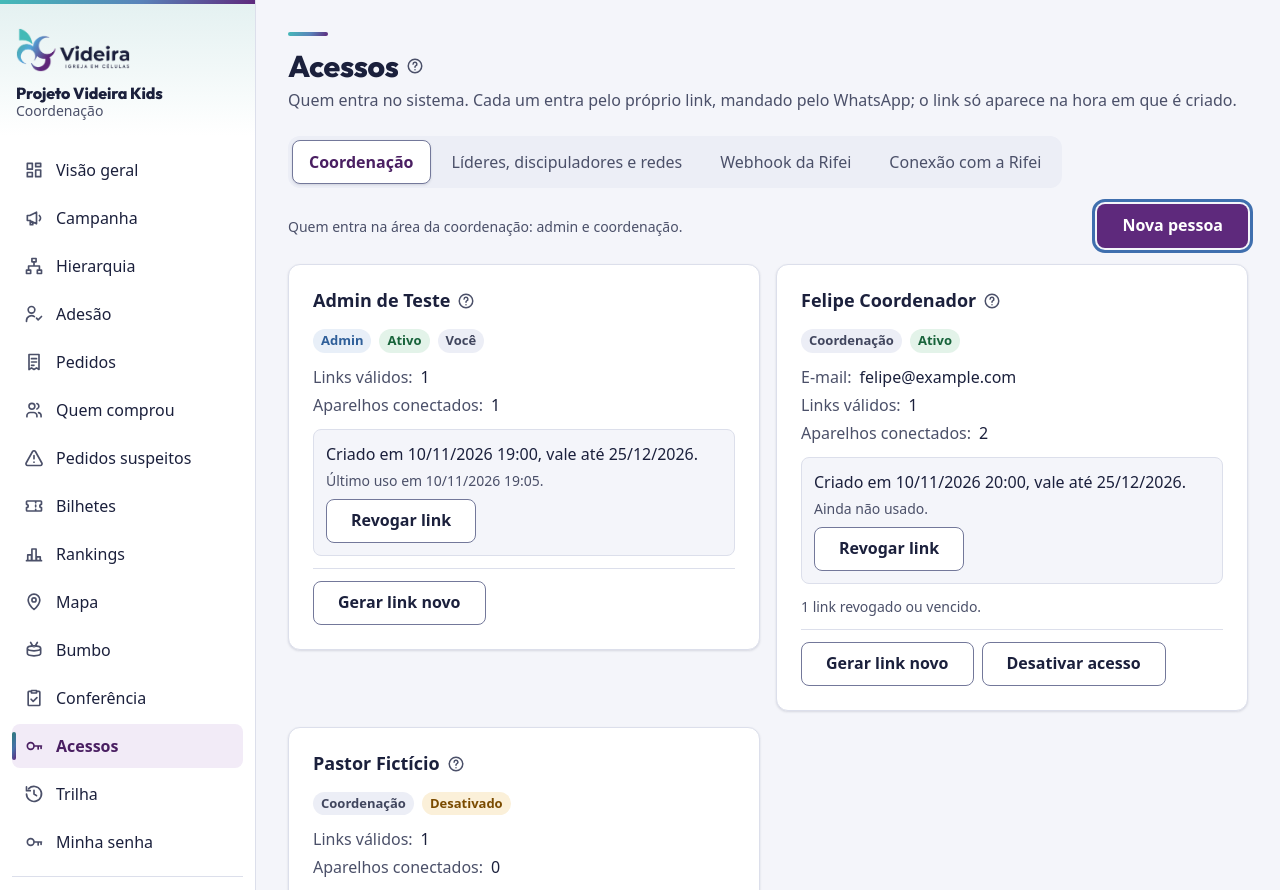
Test: CA5: nova pessoa e o link mostrado uma vez › e-mail recusado pela API (400 com detalhes): marca o campo e explica
Expected: the heading "Admin de Teste" is shown, [313,290,450,312]
Click the button "Nova pessoa" at coordinates (1173, 226), box [1097,204,1248,248]
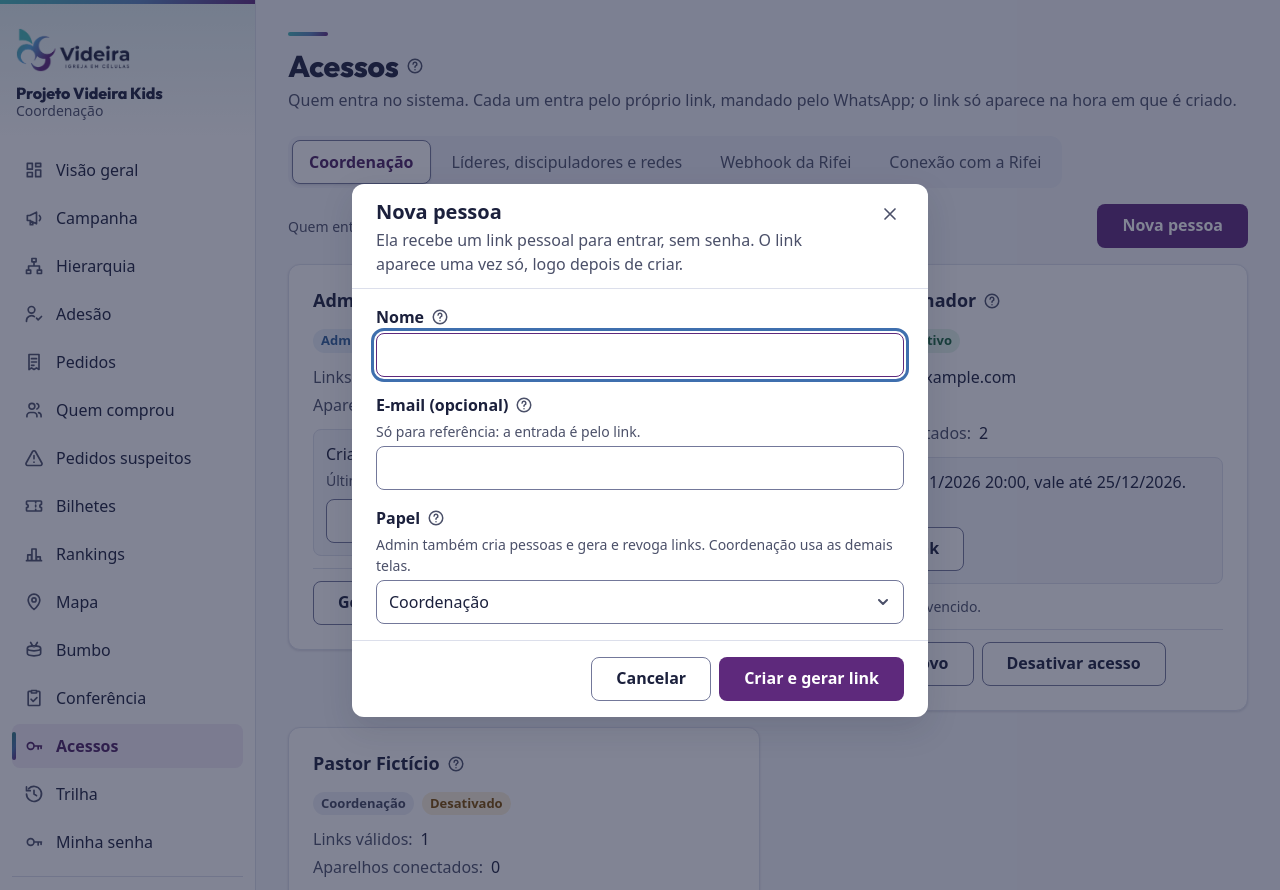
Type "Pessoa Nova" into the field labelled "Nome" at coordinates (640, 354), box [376,332,904,376]
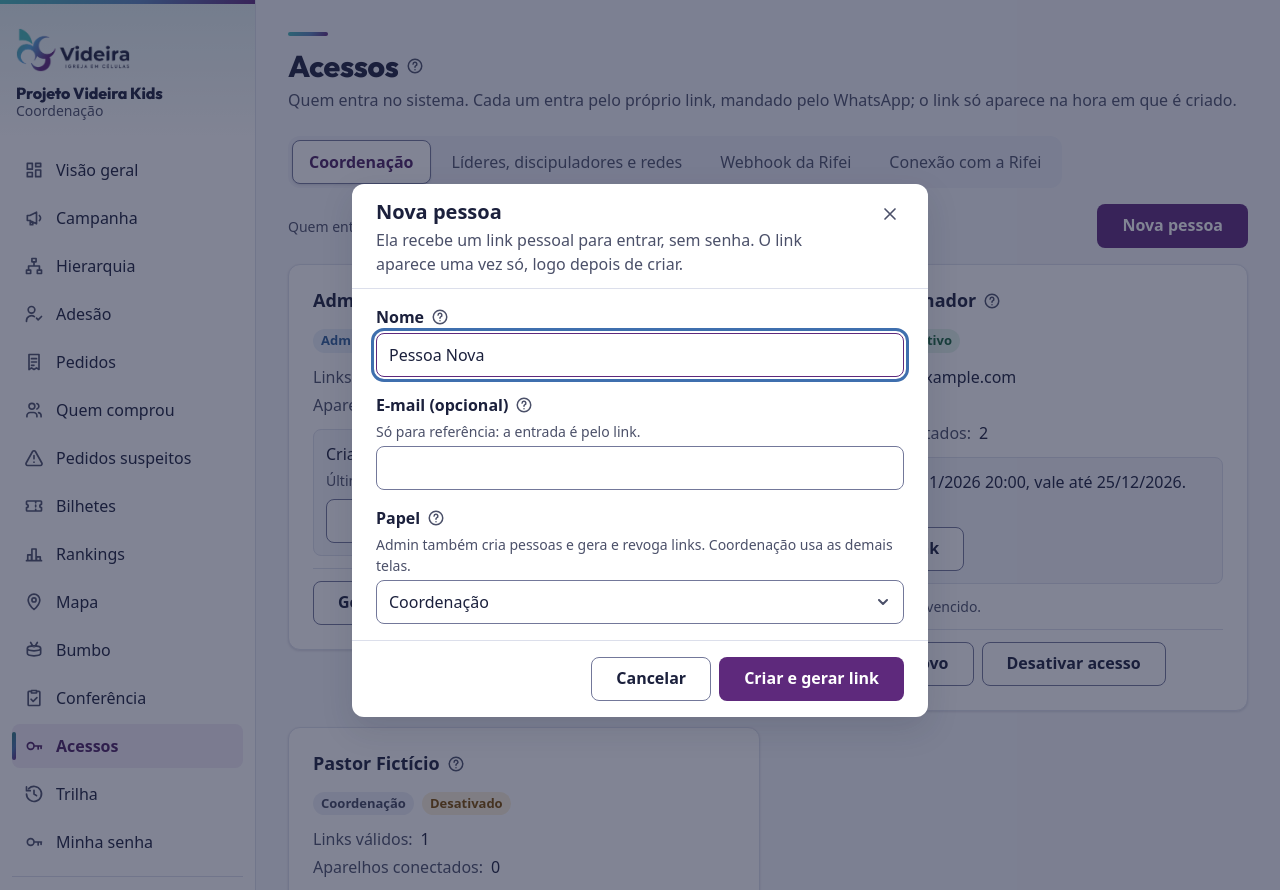
Type "pessoa@exemplo.com" into the field labelled "E-mail (opcional)" at coordinates (640, 468), box [376,446,904,490]
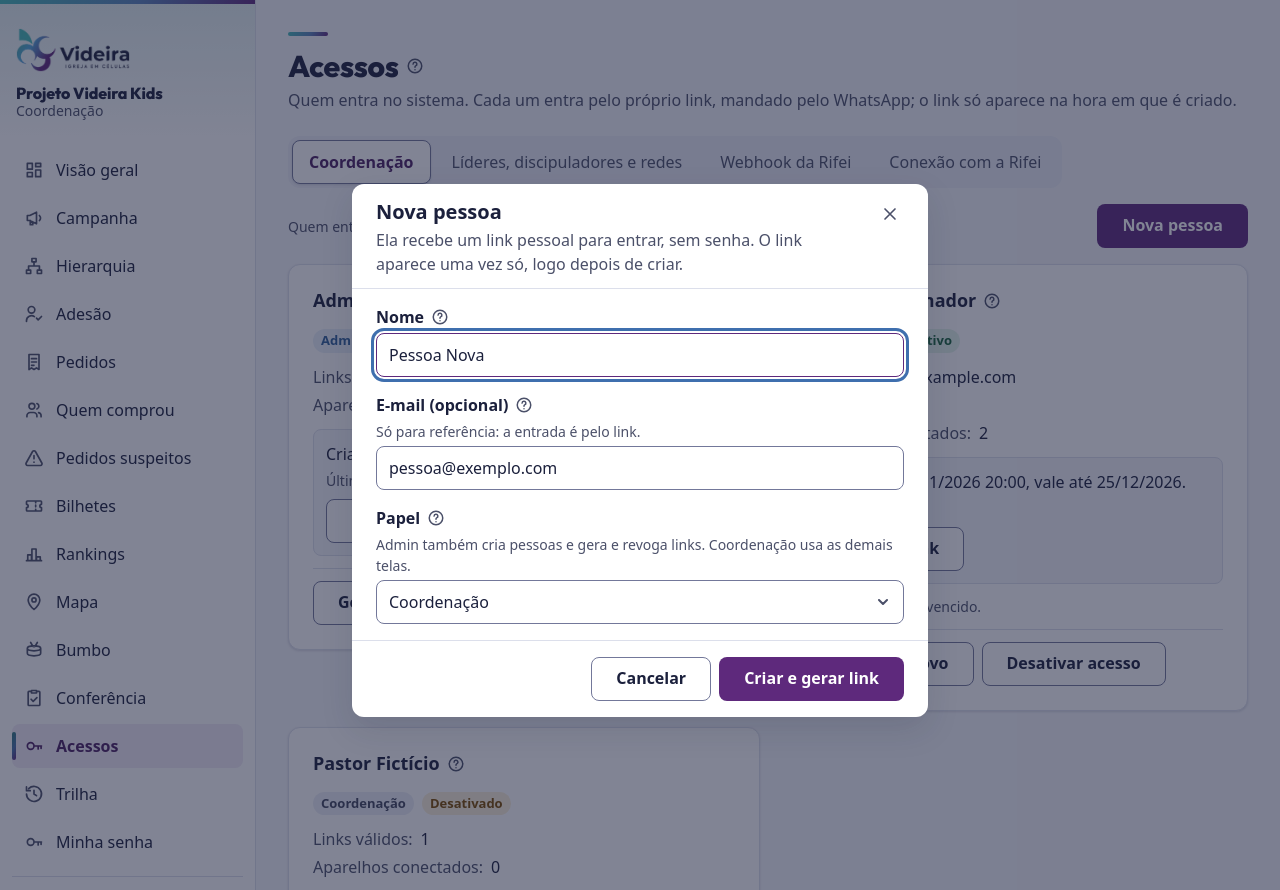
Click the button "Criar e gerar link" at coordinates (812, 678), box [719,656,904,700]
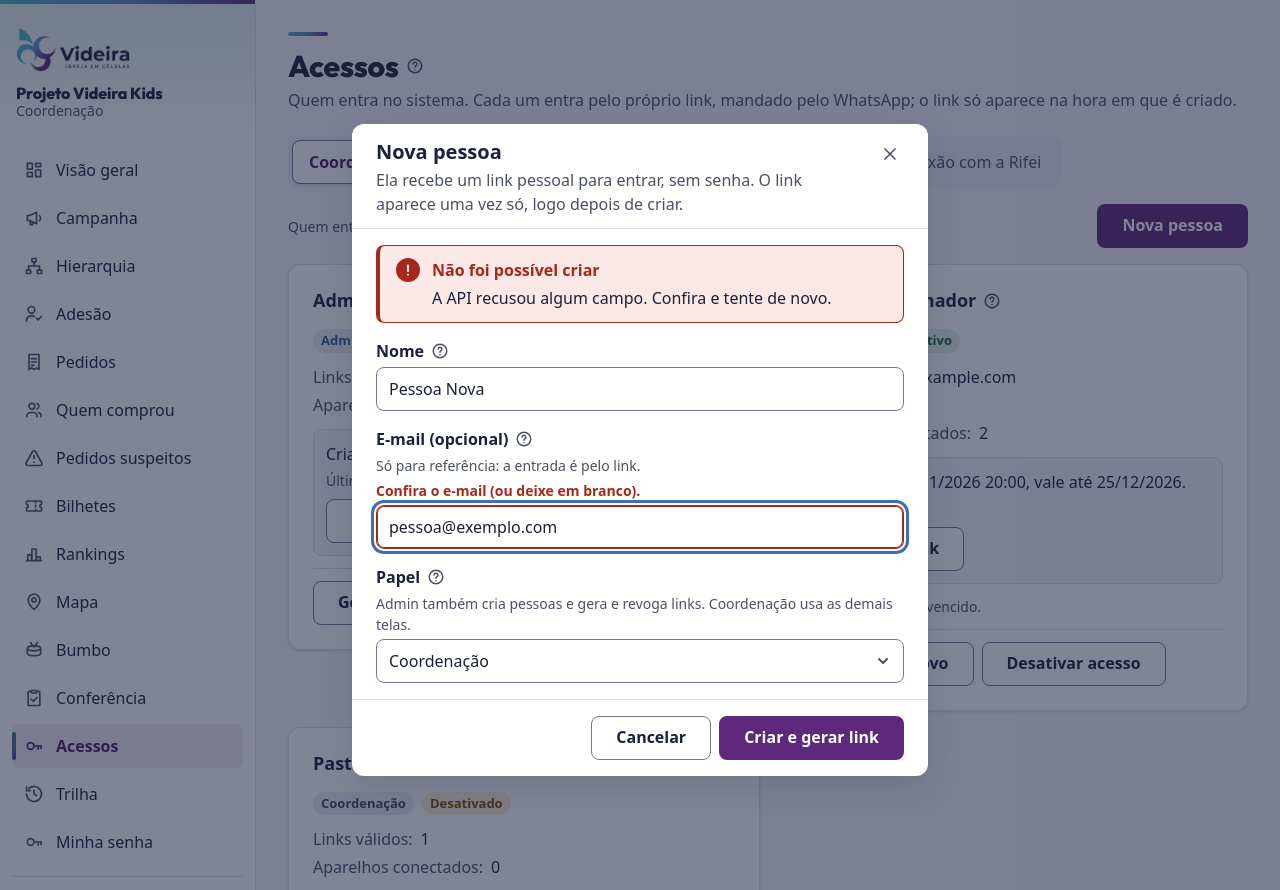
Expected: the message shows "A API recusou algum campo. Confira e tente de novo.", [432,287,832,309]
Expected: the text "Confira o e-mail (ou deixe em branco)." is shown, [376,481,640,500]
